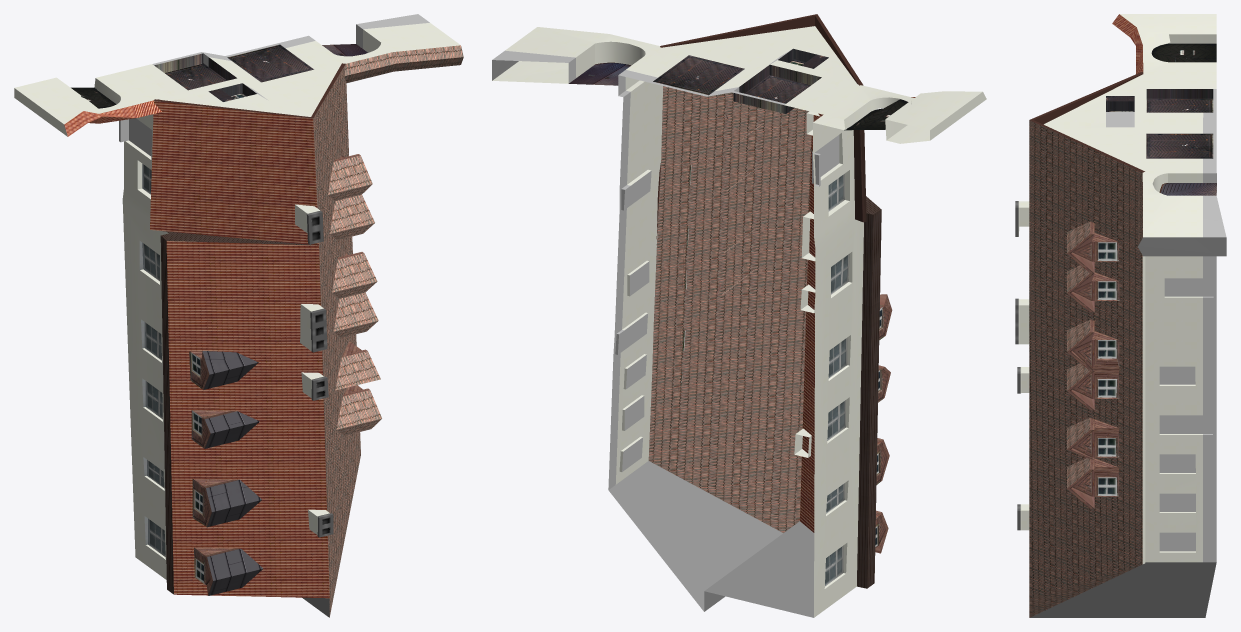
The model's file is Kiriku_plats_3-origo.obj.
3 renders of one model, left to right at view 1: azimuth 30°, elevation 25°; view 2: azimuth 150°, elevation 25°; view 3: azimuth 270°, elevation 25°, orthographic. The views are drawn at different scales.
Visible parts, largest first — view 1: Kiriku_plats_3; view 2: Kiriku_plats_3; view 3: Kiriku_plats_3.
Part boxes in pixels (box(x1,y1,x2,y2)): Kiriku_plats_3: box(14, 14, 463, 617); Kiriku_plats_3: box(492, 14, 986, 617); Kiriku_plats_3: box(1015, 14, 1226, 617).
Size of the model in its own units: 21.69 by 26 by 9.95.
